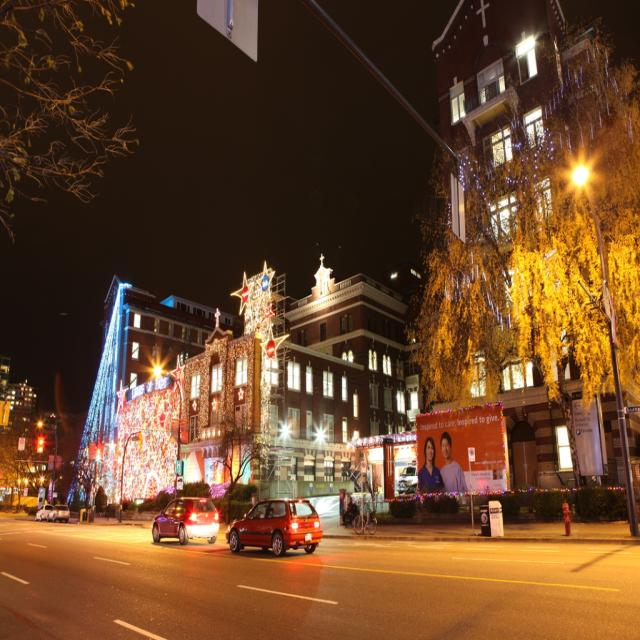car: (221, 500, 324, 562), (148, 493, 221, 545), (45, 500, 75, 522)
